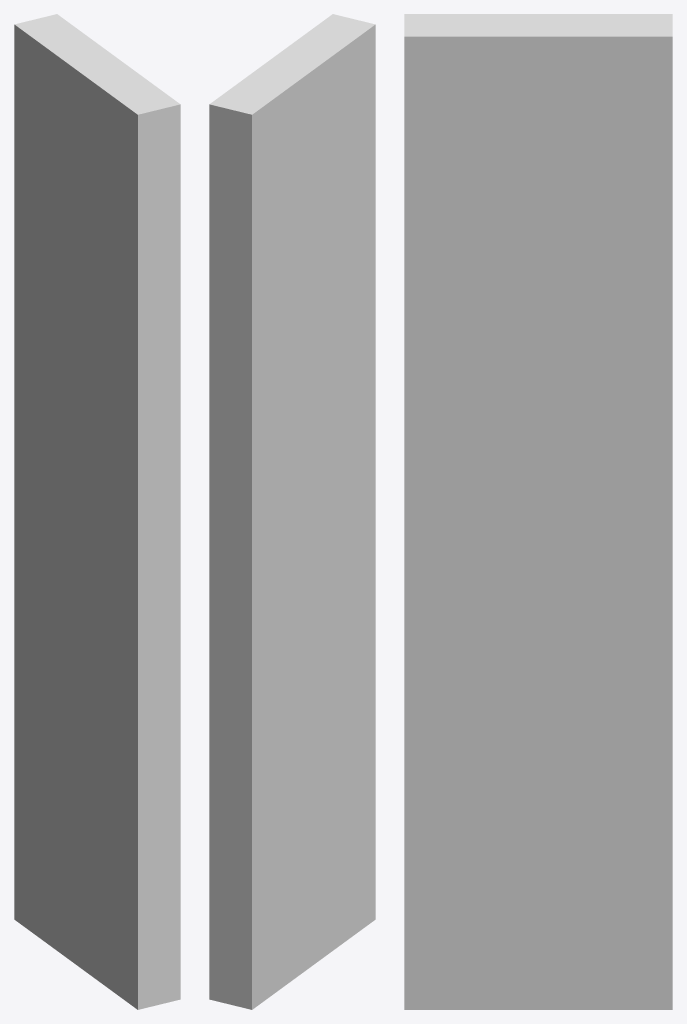
The model's file is SM_Build_Wand_Weiss_Schwarz_Schmal.fbx.
The picture shows the model from 3 angles, left to right: view 1: azimuth 30°, elevation 25°; view 2: azimuth 150°, elevation 25°; view 3: azimuth 270°, elevation 25°; orthographic projection. The views are drawn at different scales.
Parts seen in each view (by area): view 1: Wand Weiß/Schwarz/ Schmal; view 2: Wand Weiß/Schwarz/ Schmal; view 3: Wand Weiß/Schwarz/ Schmal.
Part boxes in pixels (<box>): Wand Weiß/Schwarz/ Schmal: <box>14,14,180,1009</box>; Wand Weiß/Schwarz/ Schmal: <box>209,14,375,1009</box>; Wand Weiß/Schwarz/ Schmal: <box>404,14,672,1009</box>.
Bounding box in the file's own units: 0.2 × 4 × 1.
